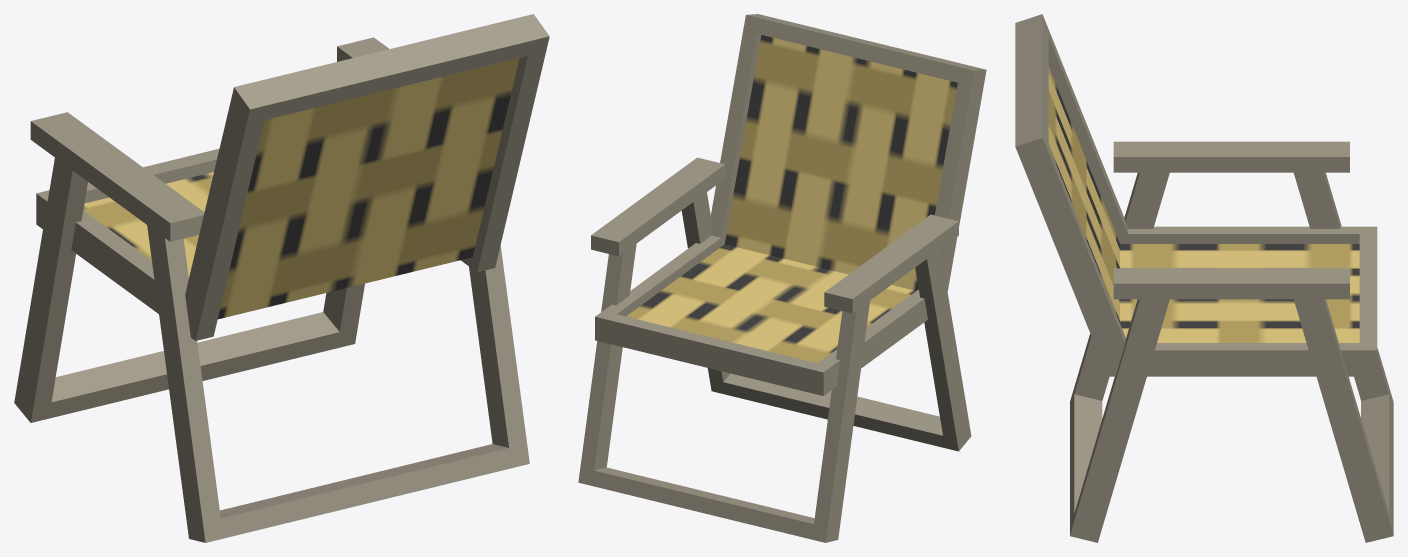
File: west_zs10.FBX
3 views of the same model, side by side, from view 1: azimuth 30°, elevation 25°; view 2: azimuth 150°, elevation 25°; view 3: azimuth 270°, elevation 25° (orthographic). The views are drawn at different scales.
Visible parts, largest first — view 1: west_zs10; view 2: west_zs10; view 3: west_zs10.
Part boxes in pixels (left/top/right/bottom): west_zs10: left=14, top=14, right=549, bottom=542; west_zs10: left=578, top=14, right=986, bottom=542; west_zs10: left=1015, top=14, right=1393, bottom=542.
Size of the model in its own units: 313 by 412 by 353.
